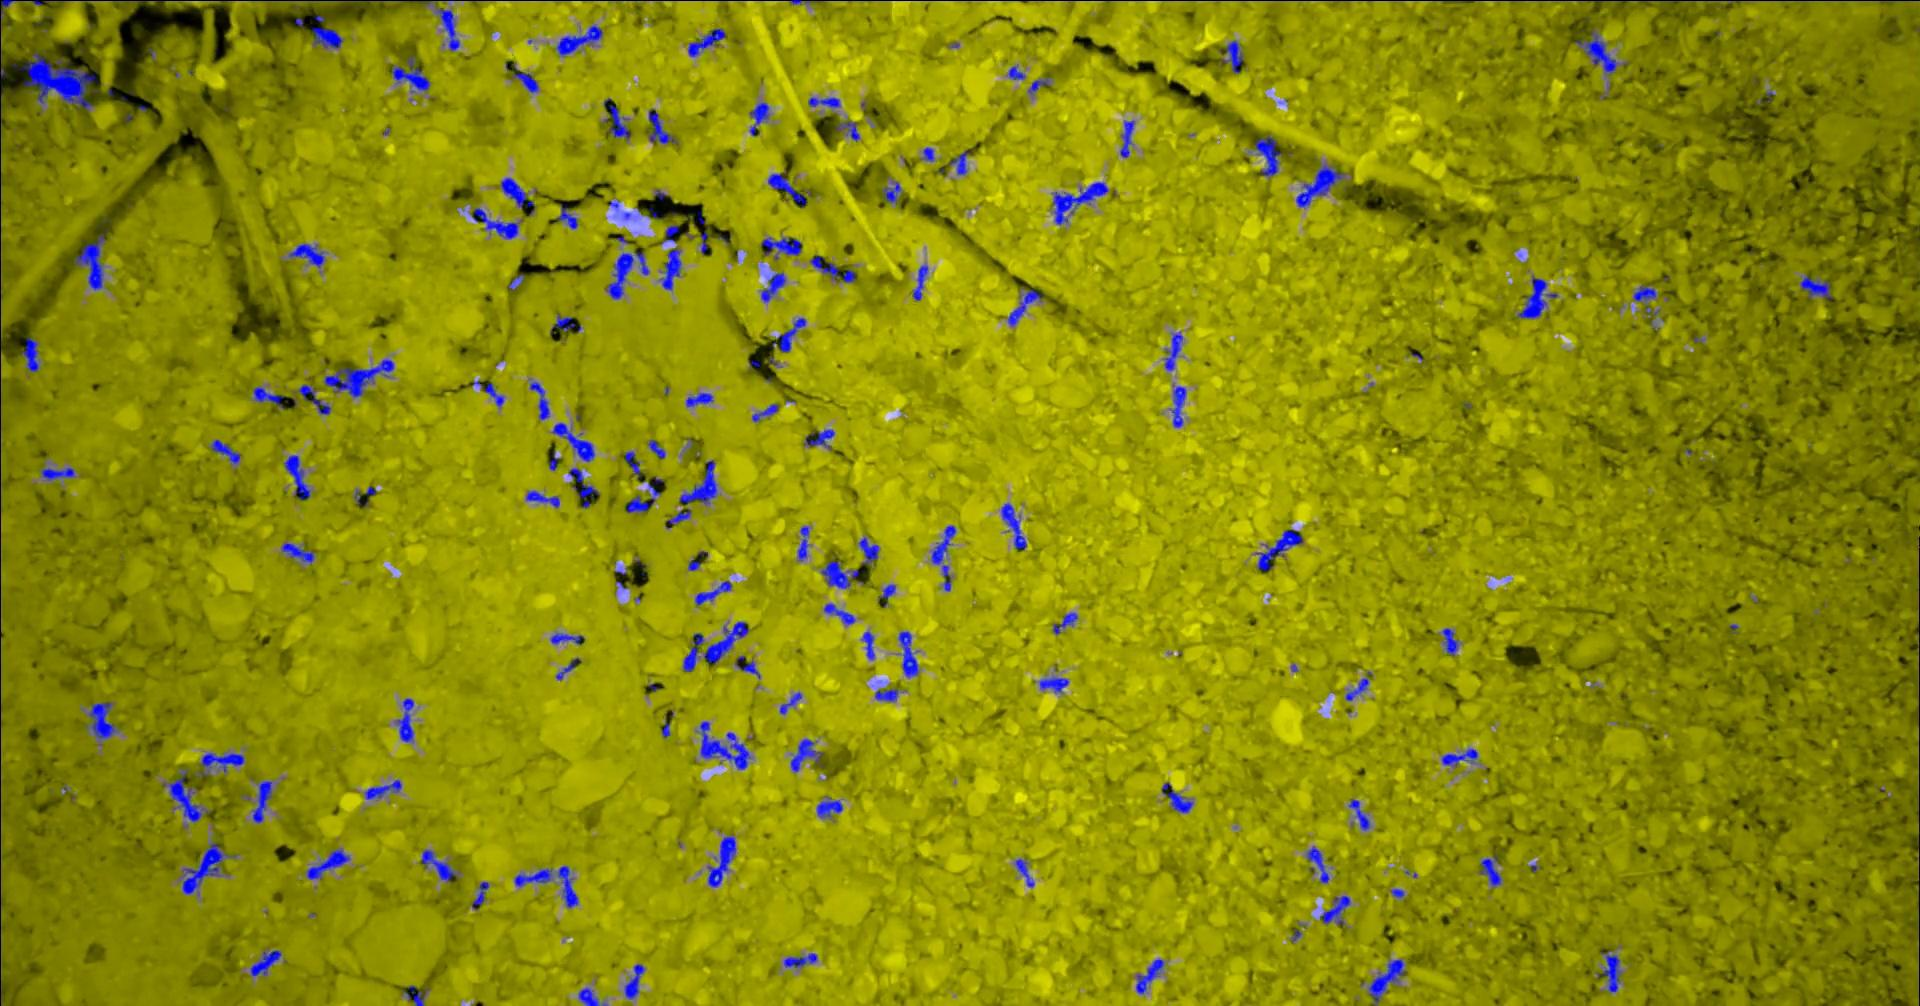ant: (682, 621, 748, 671), (182, 842, 235, 894), (324, 359, 392, 398), (161, 768, 210, 821), (1051, 180, 1109, 224), (698, 721, 750, 768), (1295, 165, 1343, 207), (1255, 528, 1303, 570), (606, 251, 648, 298), (1575, 28, 1617, 72), (72, 234, 105, 290), (1516, 276, 1557, 318), (551, 422, 594, 461), (1368, 959, 1404, 1005), (930, 525, 955, 591), (679, 459, 716, 503), (767, 171, 810, 207), (707, 835, 735, 887), (391, 55, 429, 91), (556, 25, 602, 56), (472, 207, 518, 238), (306, 848, 350, 879), (1007, 290, 1043, 326), (500, 177, 535, 215), (283, 453, 311, 499), (626, 478, 663, 512), (810, 254, 855, 282), (568, 467, 598, 508), (820, 556, 858, 588), (1001, 502, 1026, 549), (771, 318, 805, 352), (422, 848, 457, 882), (85, 701, 117, 738), (196, 752, 244, 776), (790, 738, 823, 772), (603, 97, 630, 138), (1255, 135, 1281, 177), (687, 28, 725, 56), (1135, 958, 1163, 995), (434, 8, 458, 50), (1596, 950, 1620, 992), (297, 384, 330, 414), (648, 109, 677, 144), (897, 631, 918, 677), (761, 236, 801, 259), (1161, 782, 1192, 812), (695, 580, 731, 605), (660, 246, 681, 290), (288, 243, 324, 267), (556, 865, 577, 907), (1319, 895, 1350, 923), (1305, 846, 1328, 883), (251, 780, 270, 823), (1632, 285, 1658, 315), (250, 949, 281, 976), (1219, 39, 1243, 72), (512, 62, 538, 91), (759, 272, 785, 302), (364, 779, 401, 799), (1345, 671, 1370, 700), (1799, 274, 1830, 298), (210, 439, 240, 464), (530, 381, 549, 419), (623, 963, 644, 998), (514, 868, 551, 887), (311, 25, 342, 48), (396, 699, 413, 741), (0, 0, 22, 32), (251, 386, 283, 408), (1349, 798, 1370, 829), (1479, 855, 1501, 887), (1164, 332, 1182, 370), (281, 542, 314, 563), (803, 428, 834, 448), (823, 603, 855, 624), (1441, 748, 1477, 766), (749, 102, 768, 135), (1170, 386, 1185, 427), (20, 337, 38, 371), (1119, 119, 1134, 158), (555, 657, 580, 680), (524, 490, 559, 507), (1015, 857, 1034, 887), (735, 655, 759, 678), (949, 149, 970, 174), (549, 312, 574, 334), (1051, 612, 1077, 634), (817, 796, 842, 818), (912, 264, 927, 300), (578, 987, 607, 1005), (403, 984, 428, 1005), (858, 537, 877, 564), (783, 951, 817, 967), (750, 403, 778, 420), (836, 119, 858, 141), (555, 205, 577, 227), (778, 692, 801, 714), (665, 508, 690, 528), (623, 450, 640, 479), (1039, 676, 1068, 692), (471, 882, 488, 909), (484, 382, 503, 406), (1443, 627, 1458, 655), (41, 467, 74, 480), (883, 180, 900, 203), (550, 633, 584, 644), (684, 392, 712, 406), (877, 584, 895, 606), (874, 688, 903, 701), (797, 525, 808, 560), (861, 631, 874, 659), (1027, 77, 1049, 93), (808, 97, 839, 107), (648, 439, 664, 459), (663, 224, 678, 243), (507, 274, 523, 290), (1008, 66, 1025, 79), (922, 147, 935, 161), (700, 231, 707, 254), (687, 558, 700, 570), (397, 0, 436, 4), (789, 0, 824, 4)
